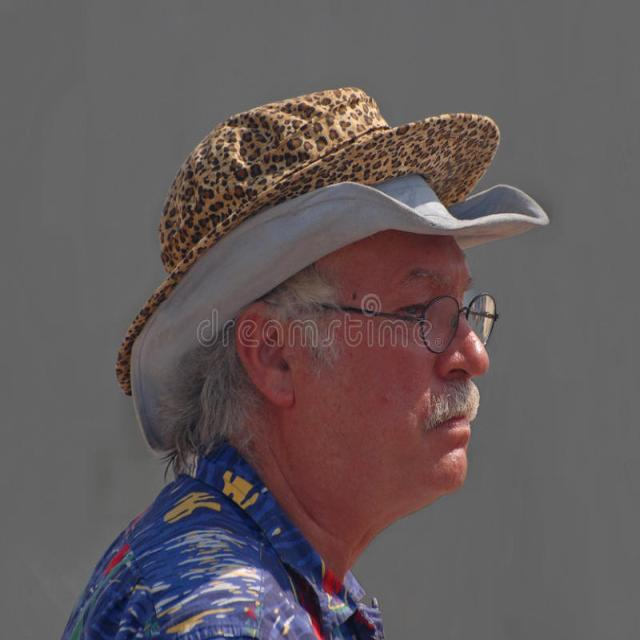hat: (114, 86, 555, 544)
